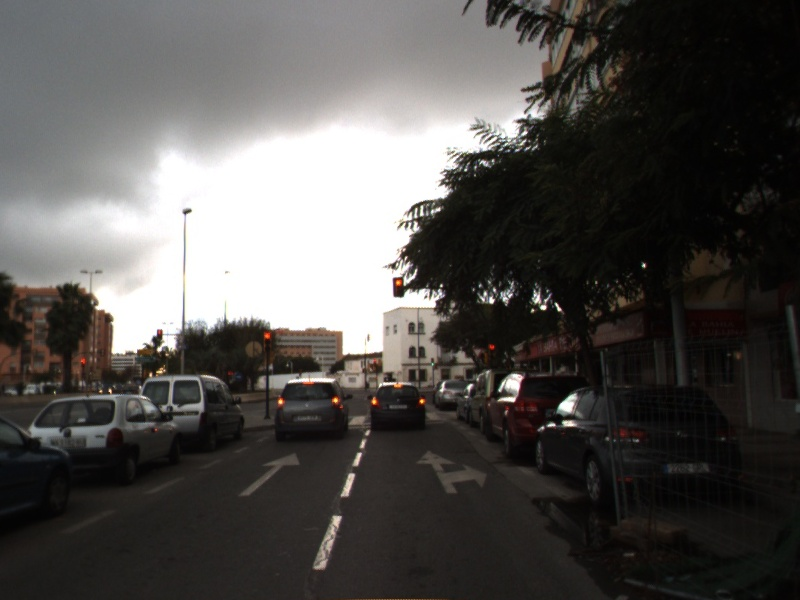STRAIGHT: (237, 451, 301, 497)
STRAIGHT_RIGHT: (415, 449, 489, 494)
